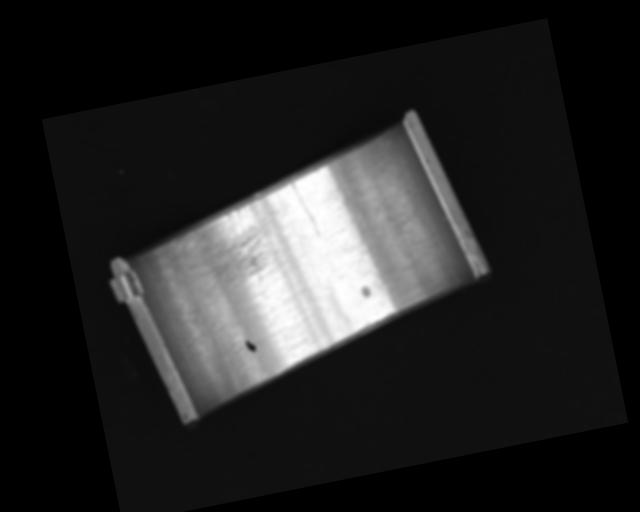blot: (244, 337, 256, 353)
bruise: (360, 285, 372, 299)
nick: (404, 205, 460, 292), (291, 179, 320, 239)
scratch: (165, 193, 287, 296)
